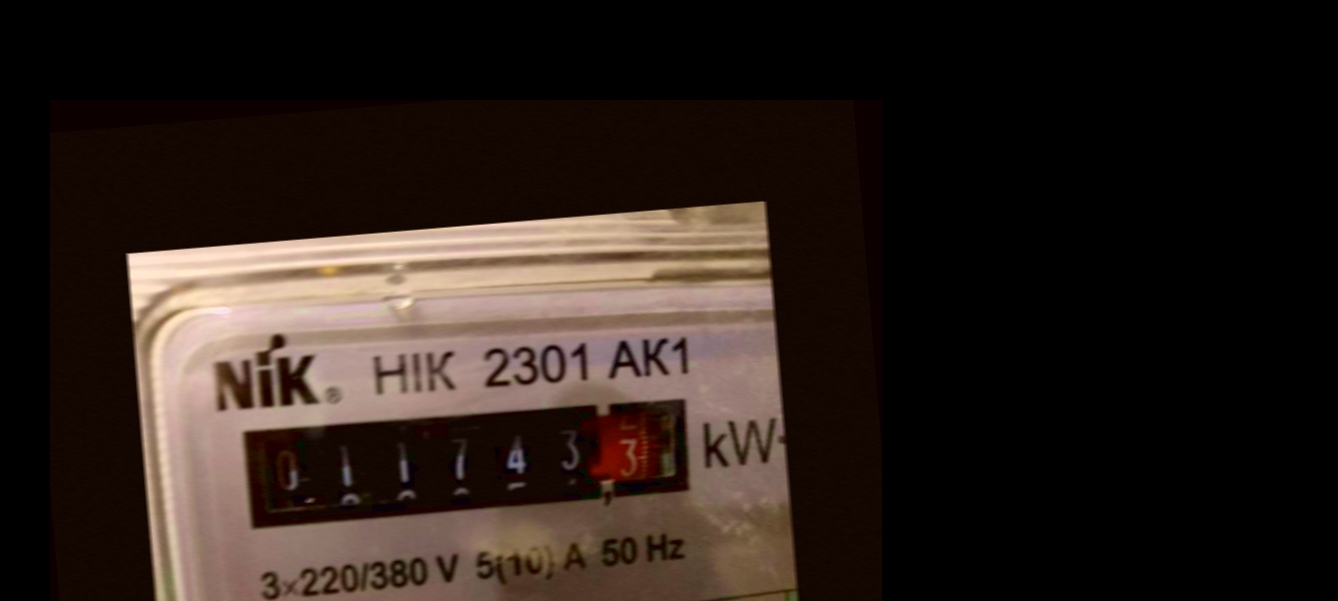0: (271, 447, 304, 496)
1: (391, 439, 416, 488), (336, 444, 357, 493)
3: (555, 427, 586, 476), (616, 436, 643, 482)
4: (501, 430, 533, 480)
7: (447, 436, 475, 486)
screen: (227, 387, 701, 543)
